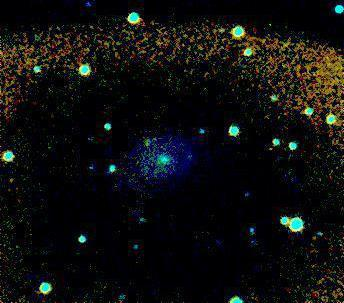star: (209, 222, 239, 252)
